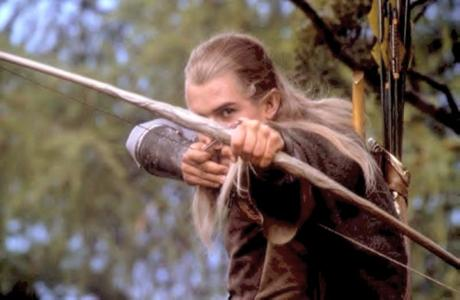person: (125, 31, 407, 298)
